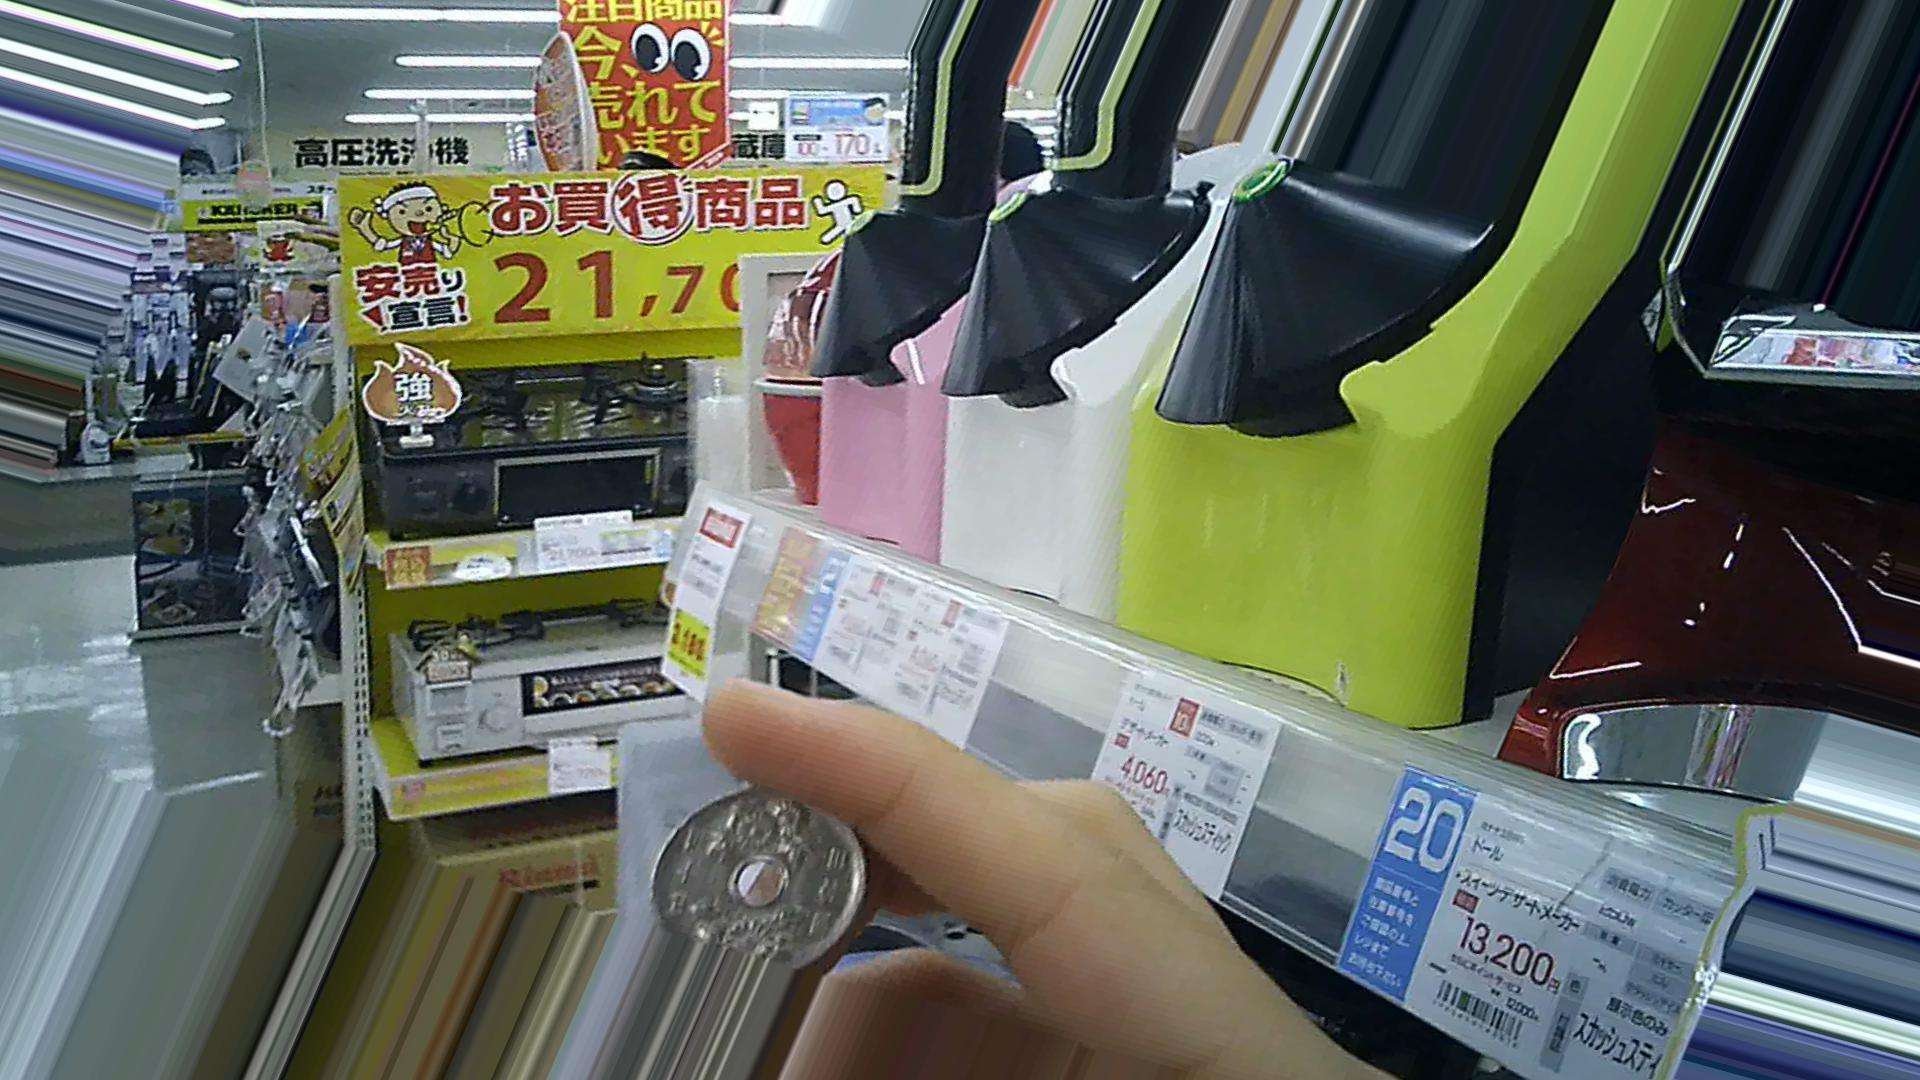50 Yen: (644, 775, 882, 978)
